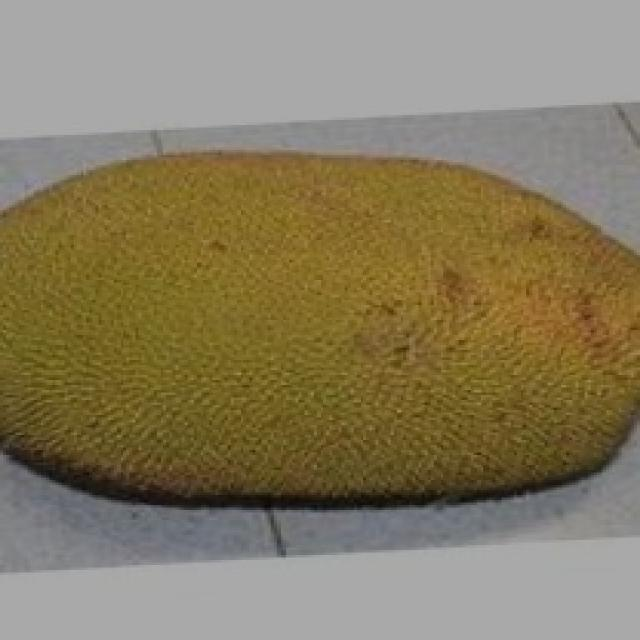Fruit: (0, 130, 400, 542), (267, 130, 640, 540)
